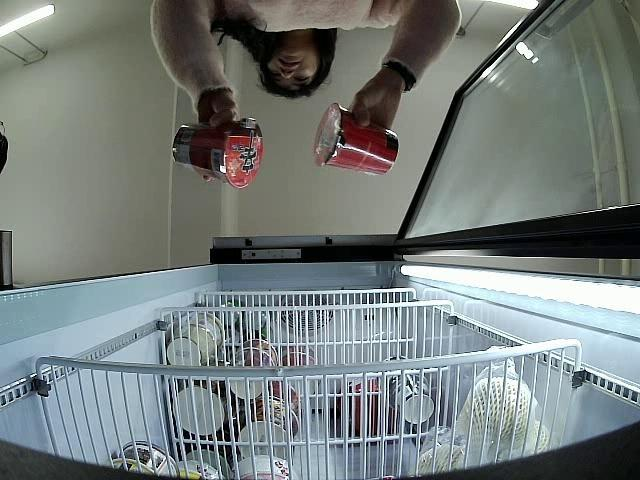02_shinRamen_S: (174, 116, 264, 189), (312, 103, 399, 176)
